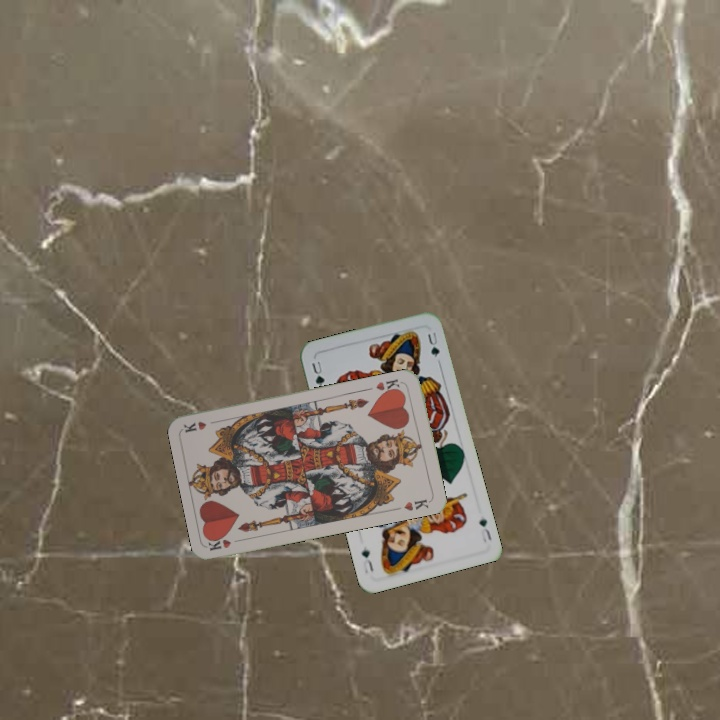GU: (307, 357, 327, 389), (475, 514, 494, 545)
HK: (205, 533, 246, 553), (372, 375, 406, 397)
